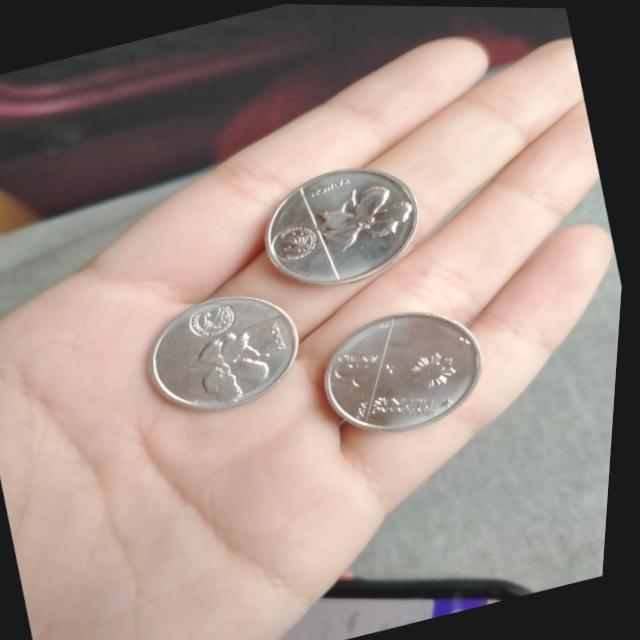25Cent_New_Back: (170, 317, 292, 408), (312, 177, 417, 260)
25Cent_New_Front: (325, 339, 392, 395)
